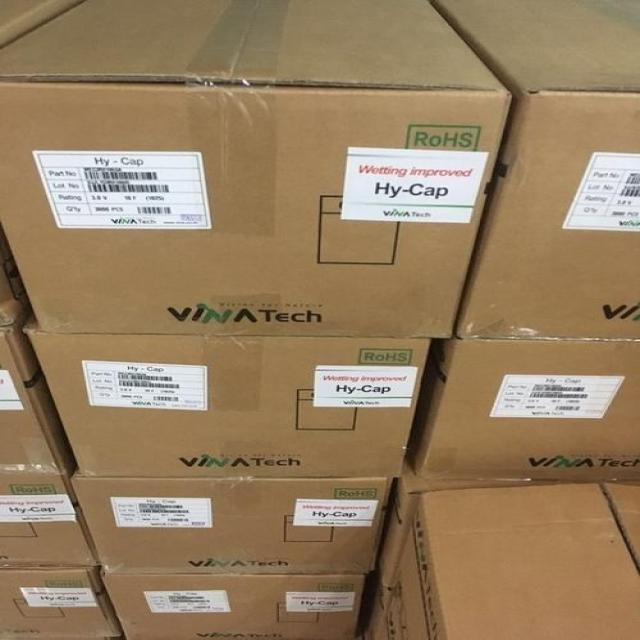box: (0, 1, 513, 338), (436, 1, 639, 342), (24, 328, 431, 481), (354, 459, 599, 638), (379, 484, 640, 640), (72, 476, 400, 576), (410, 340, 639, 482), (102, 572, 369, 639), (0, 326, 76, 478), (0, 475, 102, 570), (0, 568, 129, 639)
